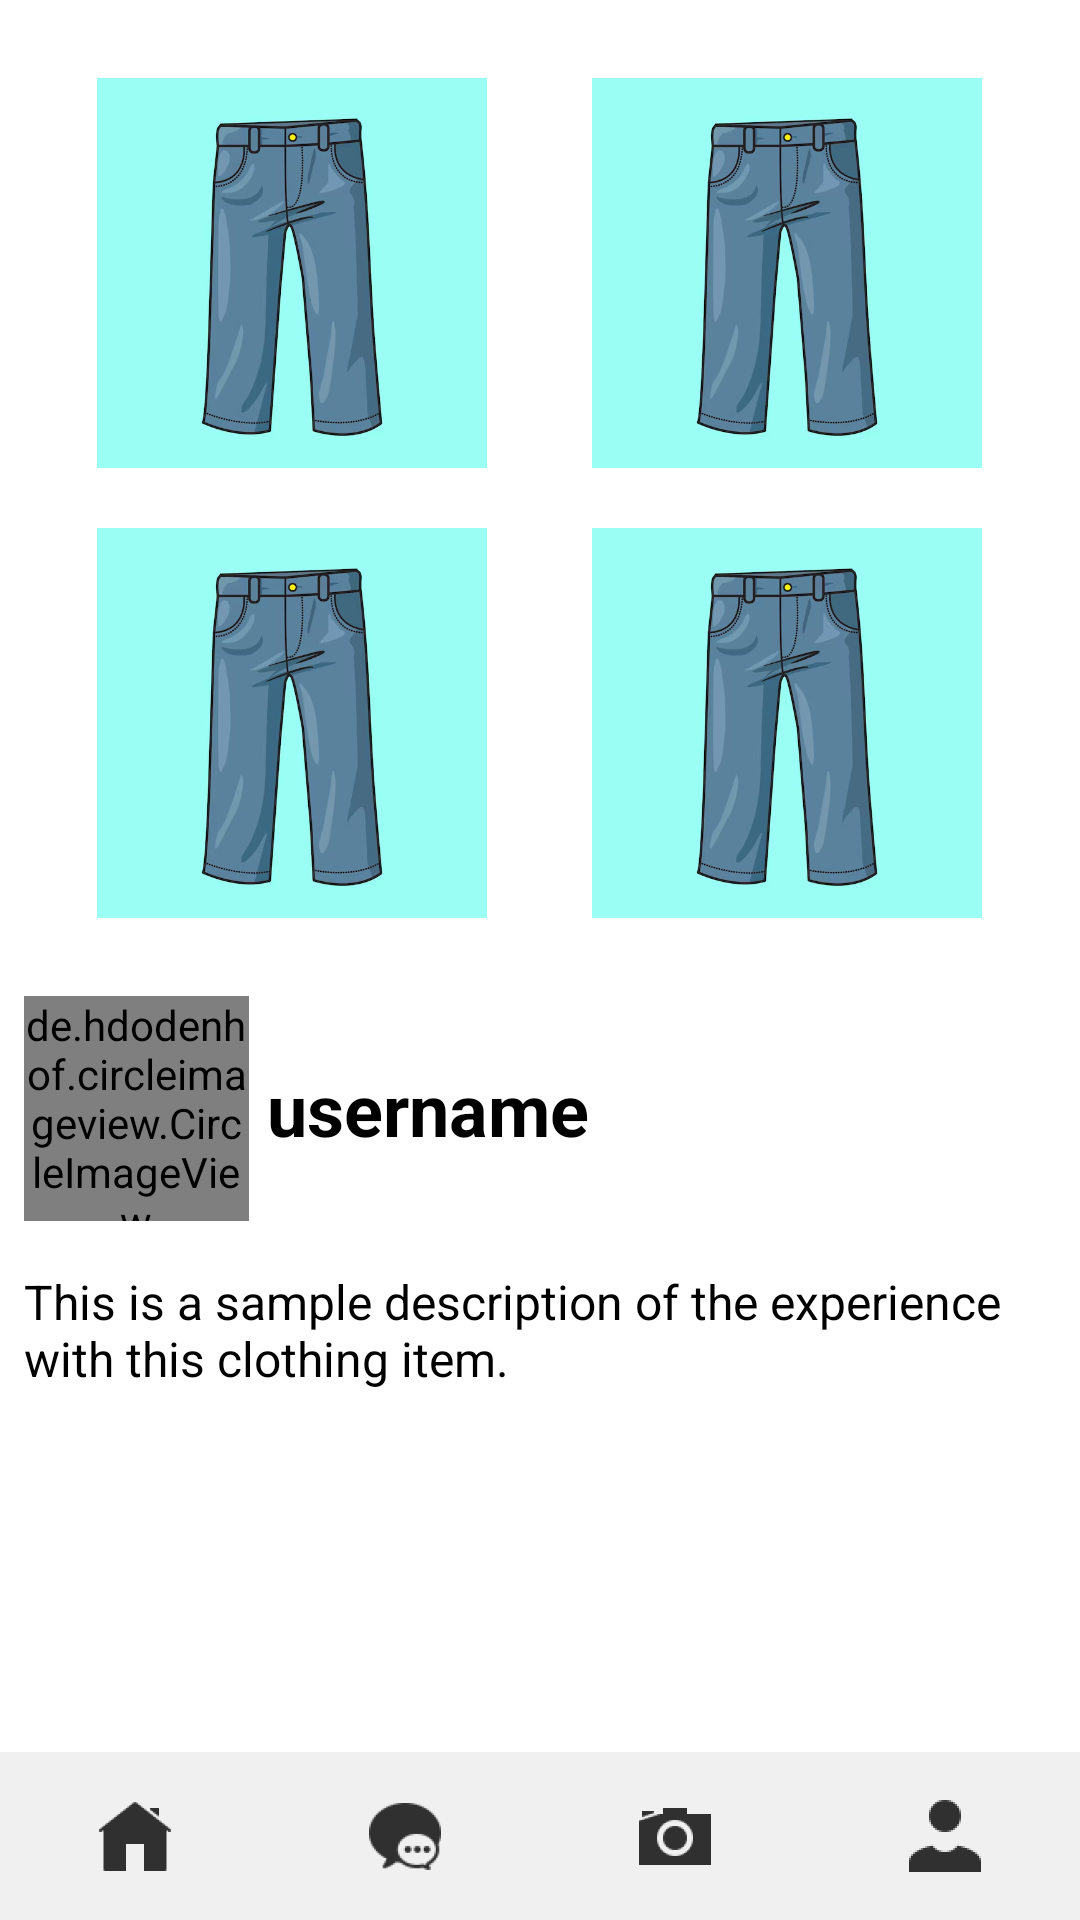

Icon click points for this 1080px x 1920px phone screenshot, format [x,y]:
homeicon: [135,1836]
Messages: [405,1836]
Profile: [945,1836]
Upload: [675,1836]
